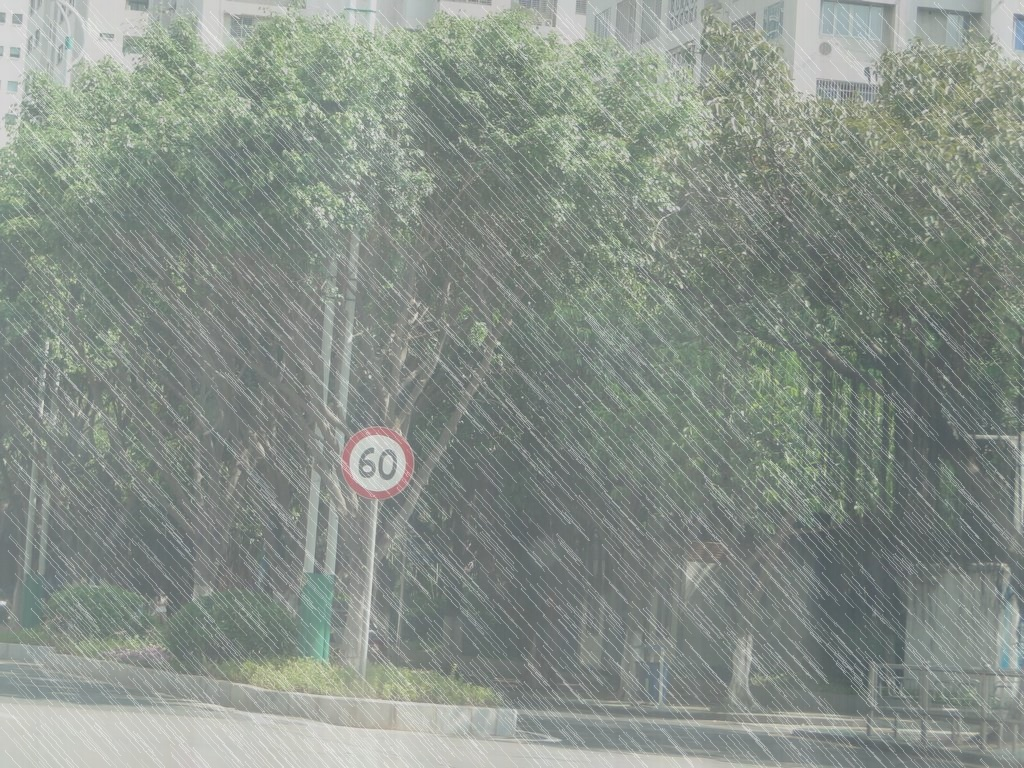Prohibitory Signs: (338, 424, 418, 503)
